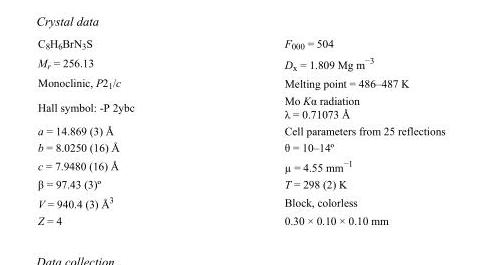table: (37, 36, 444, 226)
table column: (208, 36, 444, 226), (37, 36, 208, 226)
table row: (37, 91, 444, 122), (37, 52, 444, 73), (37, 155, 444, 175), (37, 192, 444, 211), (37, 73, 444, 91), (37, 138, 444, 155), (37, 175, 444, 192), (37, 36, 444, 52), (37, 122, 444, 138), (37, 211, 444, 226)
